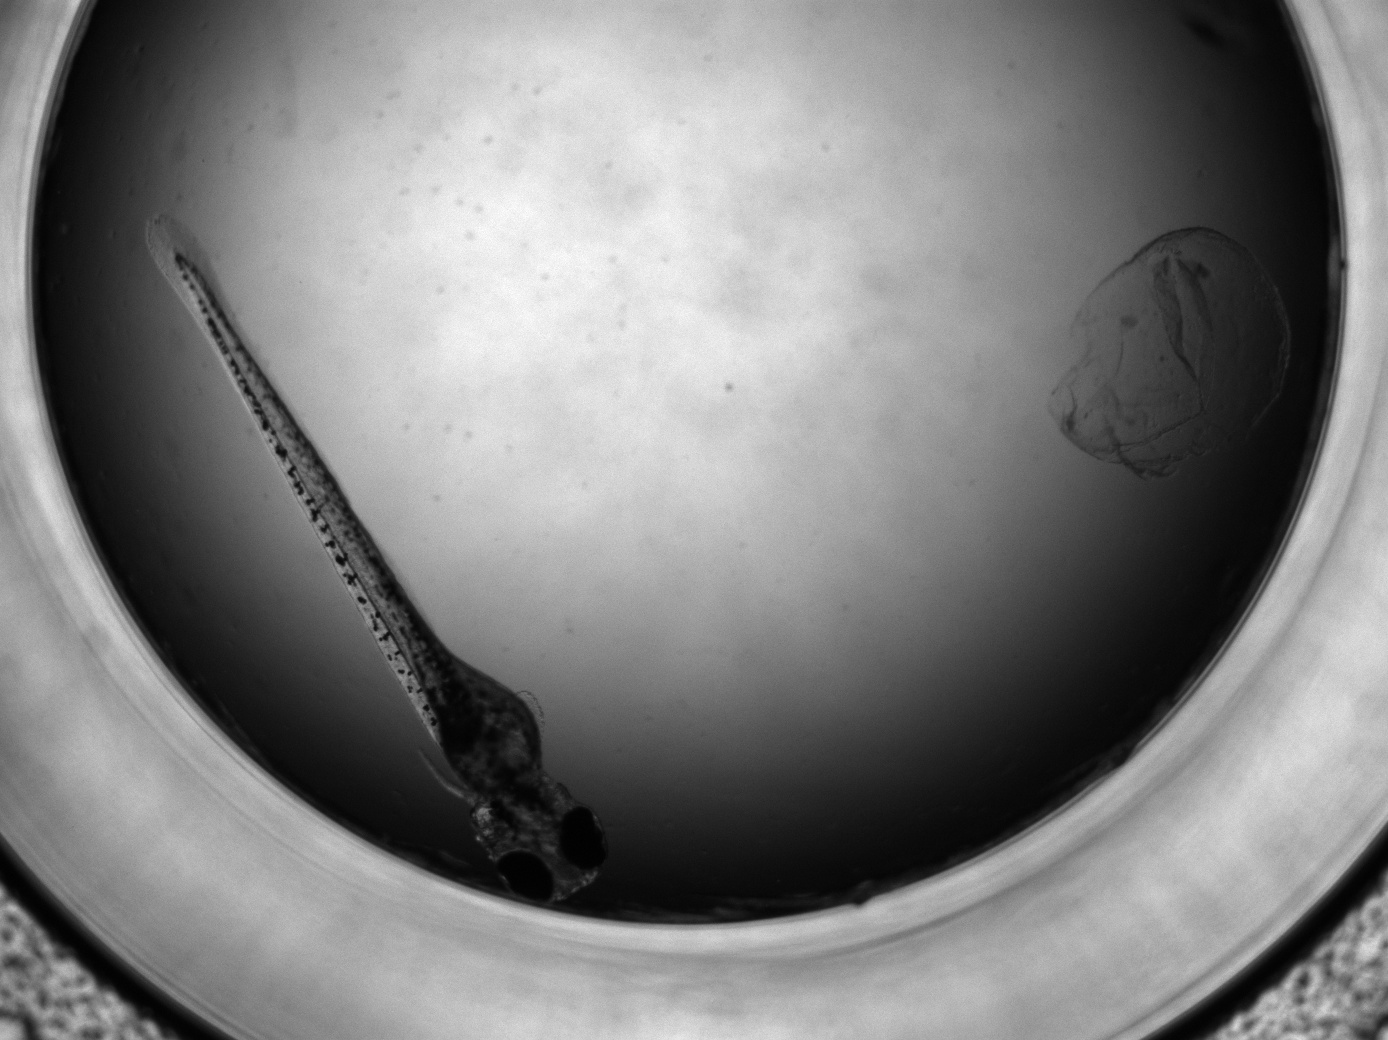debris: (1045, 224, 1292, 480)
embryo: (149, 209, 608, 906)
eye: (558, 805, 609, 870), (495, 849, 553, 905)
yolksac: (438, 679, 543, 793)
